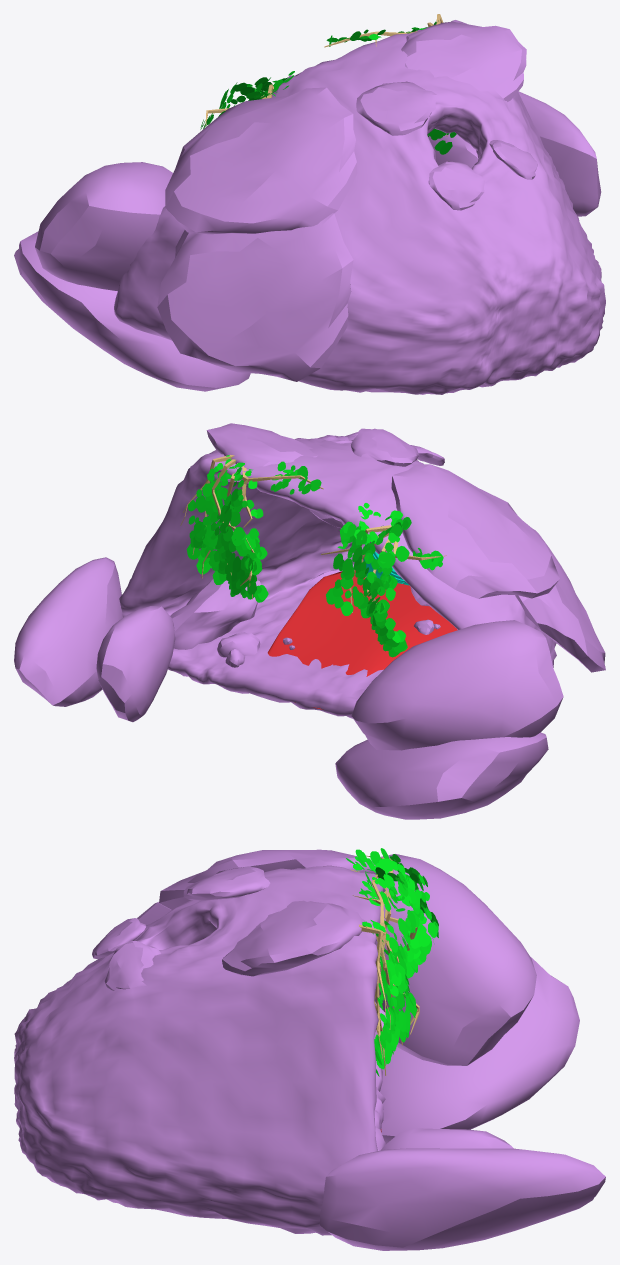
File: Cueva_UV_Fin.fbx
3 views of the same model, one above another, from view 1: azimuth 30°, elevation 25°; view 2: azimuth 150°, elevation 25°; view 3: azimuth 270°, elevation 25° (orthographic). The views are drawn at different scales.
Parts seen in each view (by area): view 1: cueva, rock.017, rock.015, rock.018, rock.014, rock.016, rock.012, rock.019, rock.020, rock.021, rock.013; view 2: cueva, rock.018, rock.015, rock.014, rock.012, pasarela cueva, rock.013, rock.017, rock.003, rock.016, rock.019, Cubo.001 (+2 smaller); view 3: cueva, rock.012, rock.018, rock.014, rock.016, rock.015, rock.013, rock.019, rock.021, Cubo.001, rock.020.
Part boxes in pixels (x1,y1,x2,y2): cueva: [114, 20, 605, 394]; rock.017: [157, 213, 353, 381]; rock.015: [165, 87, 357, 234]; rock.018: [35, 162, 172, 290]; rock.014: [14, 231, 250, 391]; rock.016: [401, 21, 526, 101]; rock.012: [518, 91, 601, 216]; rock.019: [356, 81, 437, 135]; rock.020: [428, 161, 484, 210]; rock.021: [489, 140, 537, 179]; rock.013: [428, 133, 478, 168]; cueva: [119, 435, 556, 718]; rock.018: [351, 620, 563, 750]; rock.015: [391, 464, 559, 598]; rock.014: [335, 732, 548, 819]; rock.012: [14, 557, 122, 706]; pasarela cueva: [267, 570, 457, 709]; rock.013: [96, 606, 175, 722]; rock.017: [515, 521, 605, 672]; rock.003: [170, 579, 260, 649]; rock.016: [206, 423, 317, 469]; rock.019: [351, 428, 419, 466]; Cubo.001: [180, 455, 323, 599]; cueva: [14, 865, 385, 1235]; rock.012: [320, 1148, 605, 1250]; rock.018: [375, 854, 536, 1065]; rock.014: [380, 956, 579, 1143]; rock.016: [222, 900, 365, 976]; rock.015: [159, 849, 376, 909]; rock.013: [380, 1128, 513, 1150]; rock.019: [183, 866, 270, 900]; rock.021: [104, 941, 160, 990]; Cubo.001: [352, 874, 419, 1075]; rock.020: [92, 918, 145, 958].
Bounding box in the file's own units: 23679 × 13514 × 20965.
